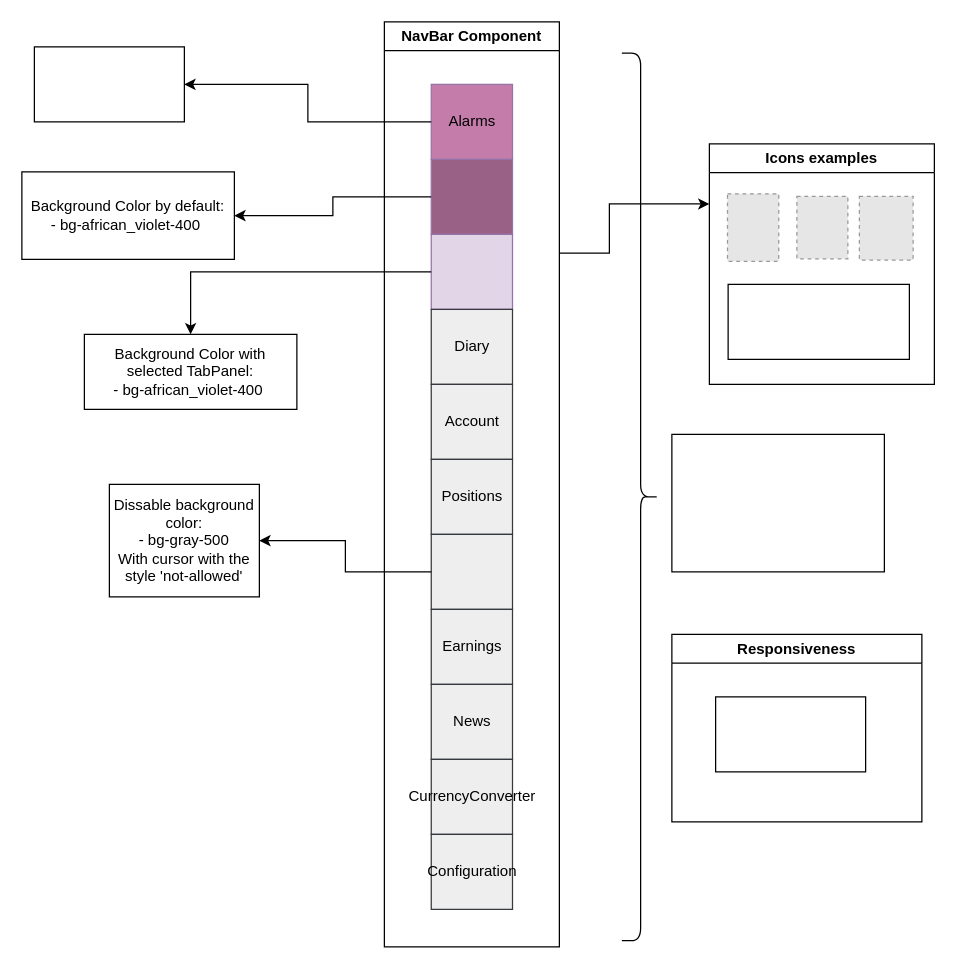
This 956x969 diagram has some shape labels left out. Grey dashed boxes stand in for pictures. Here are the shapes that lost their labels. From the top down, the centre of each, then its label:
At pixel 108 84: "Background color with Hover: - bg-african_violet-300".
At pixel 471 196: "BattleField".
At pixel 471 271: "Orders".
At pixel 818 321: "Material Symbols and Icons by Google".
At pixel 777 502: "We will use headlessUI TabGroup, where each TabPanel will contains the component".
At pixel 471 571: "Backtesting".
At pixel 790 734: "all dimension will be h-16 by tailwindCSS".
